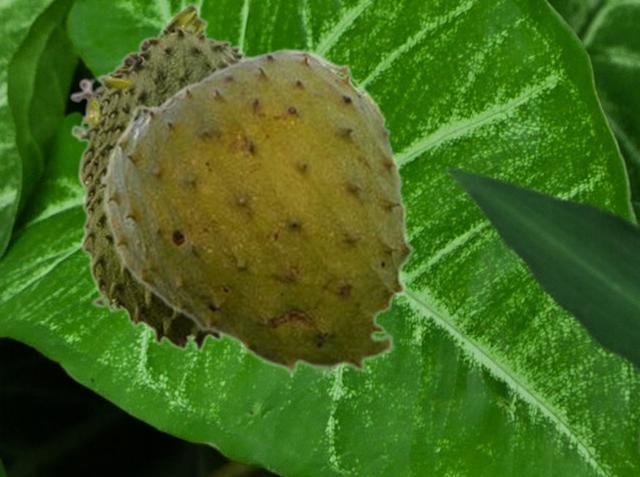guyabano: (97, 47, 414, 378), (70, 1, 253, 351)
